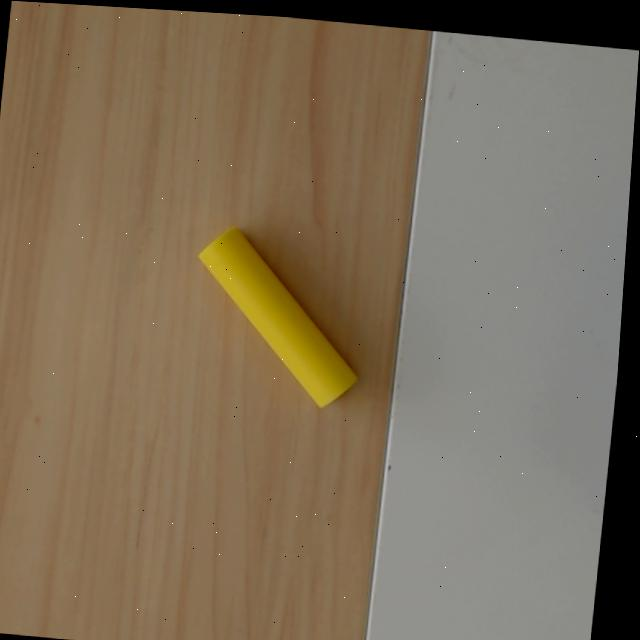Silinder-Kuning-10025: (196, 223, 360, 410)
